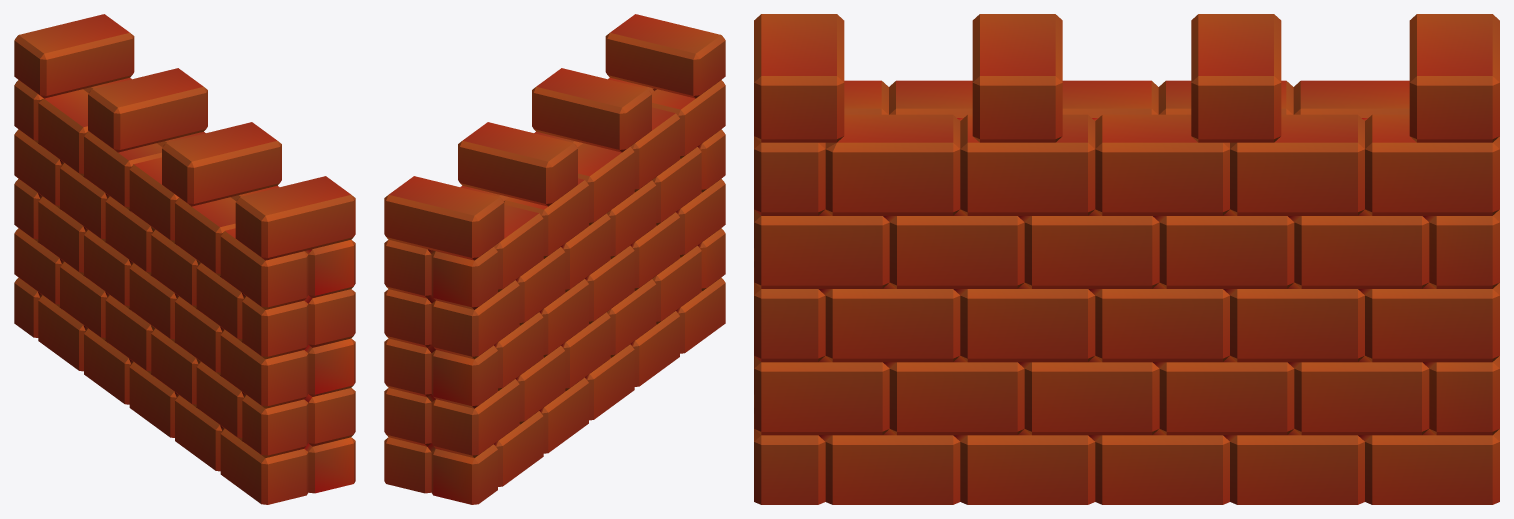
Rendered from wall.fbx.
The picture shows the model from 3 angles, left to right: view 1: azimuth 30°, elevation 25°; view 2: azimuth 150°, elevation 25°; view 3: azimuth 270°, elevation 25°; orthographic projection. The views are drawn at different scales.
Visible parts, largest first — view 1: Cube.002; view 2: Cube.002; view 3: Cube.002.
Boxes of the visible parts, x1,y1,x2,y2 form: Cube.002: [14, 14, 355, 504]; Cube.002: [384, 14, 725, 504]; Cube.002: [754, 14, 1499, 504].
Bounding box in the file's own units: 68.74 × 200 × 318.
Materials: 1 (1 with a texture image).
